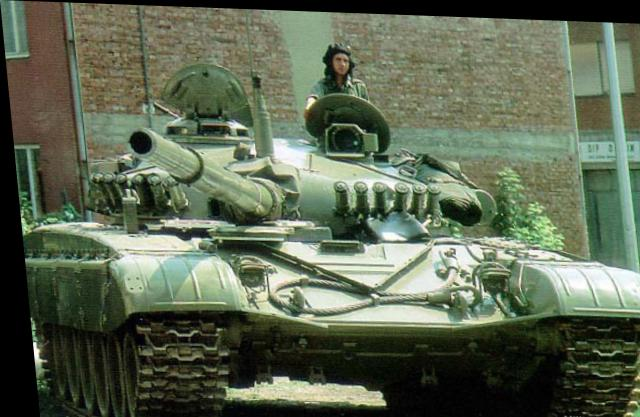other: (298, 28, 374, 129)
tank: (11, 114, 590, 416)
